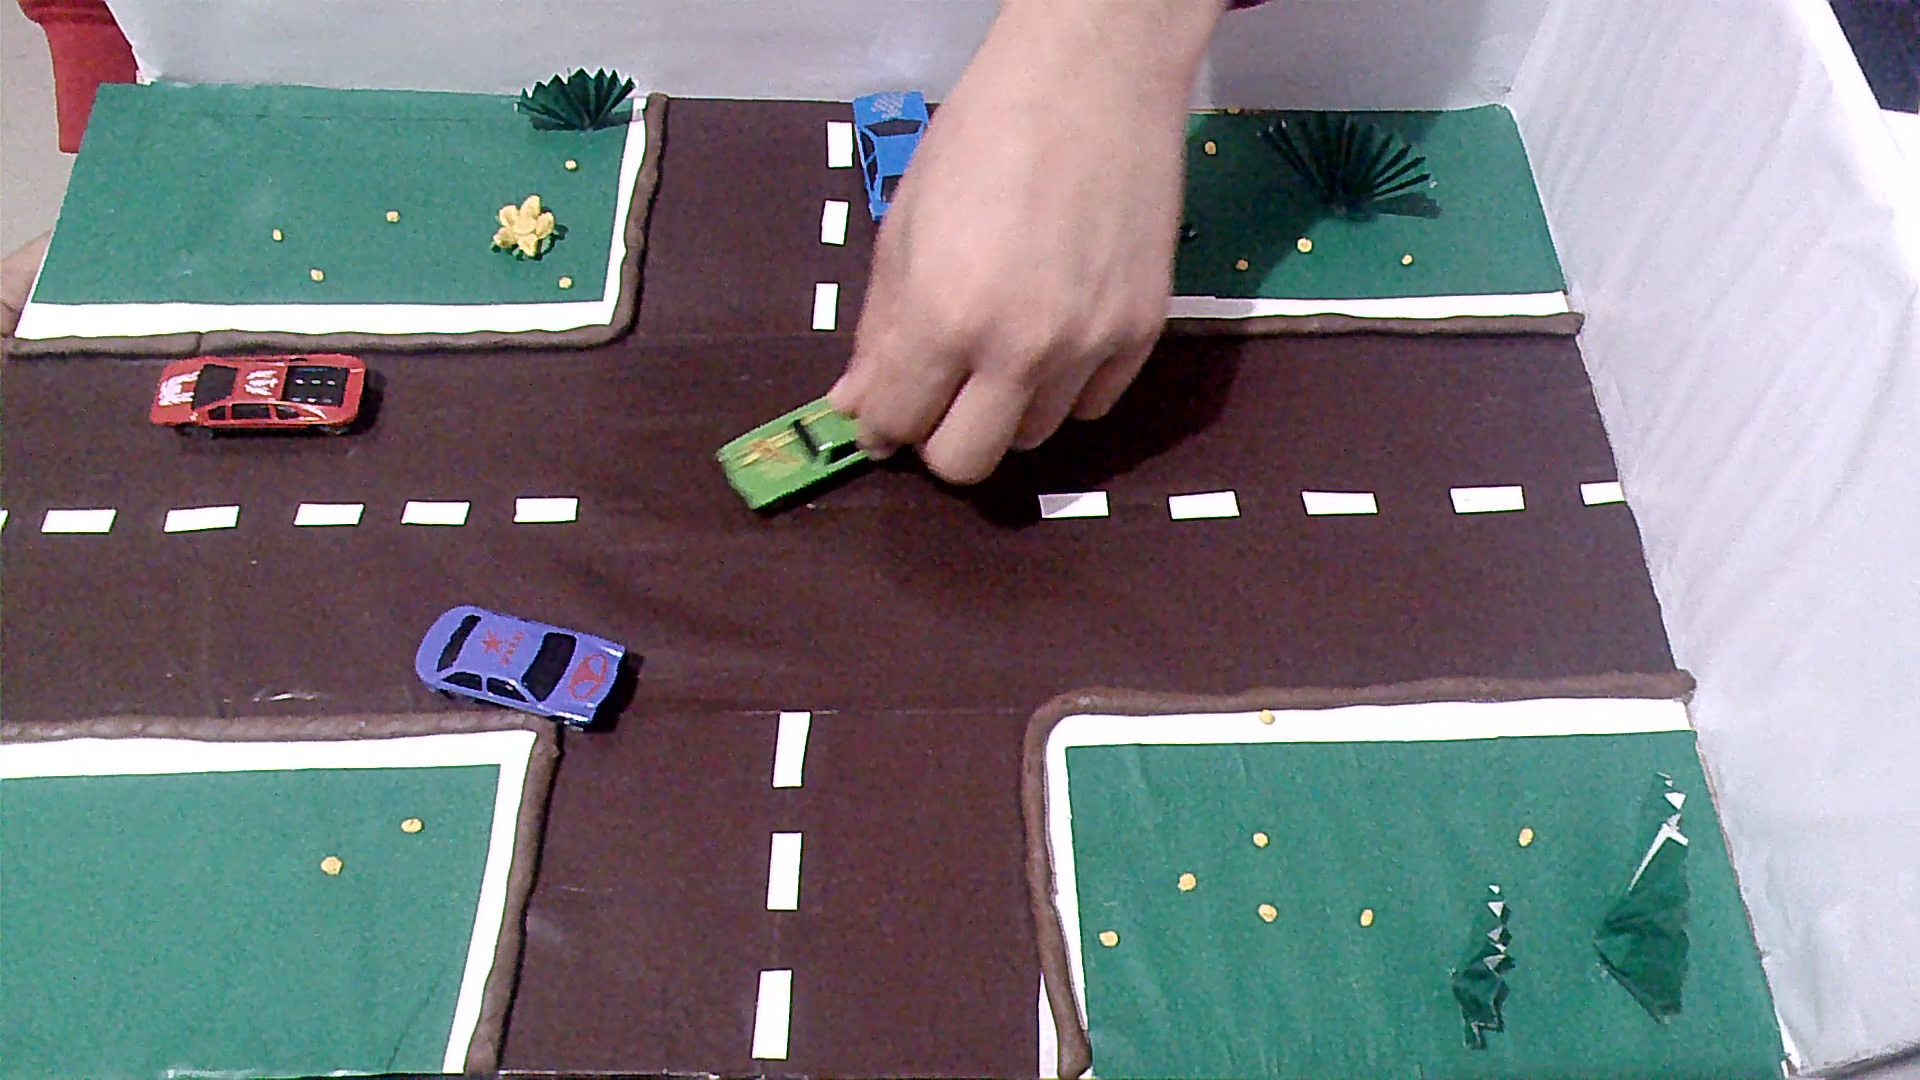car: (711, 382, 931, 517)
